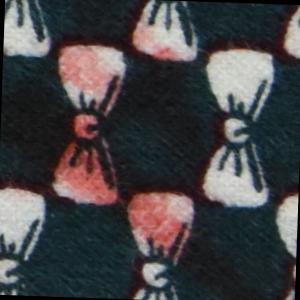Stain: (1, 1, 281, 300)
